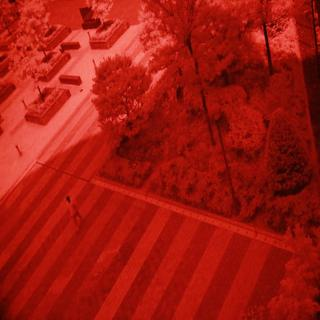person: (58, 185, 89, 230)
